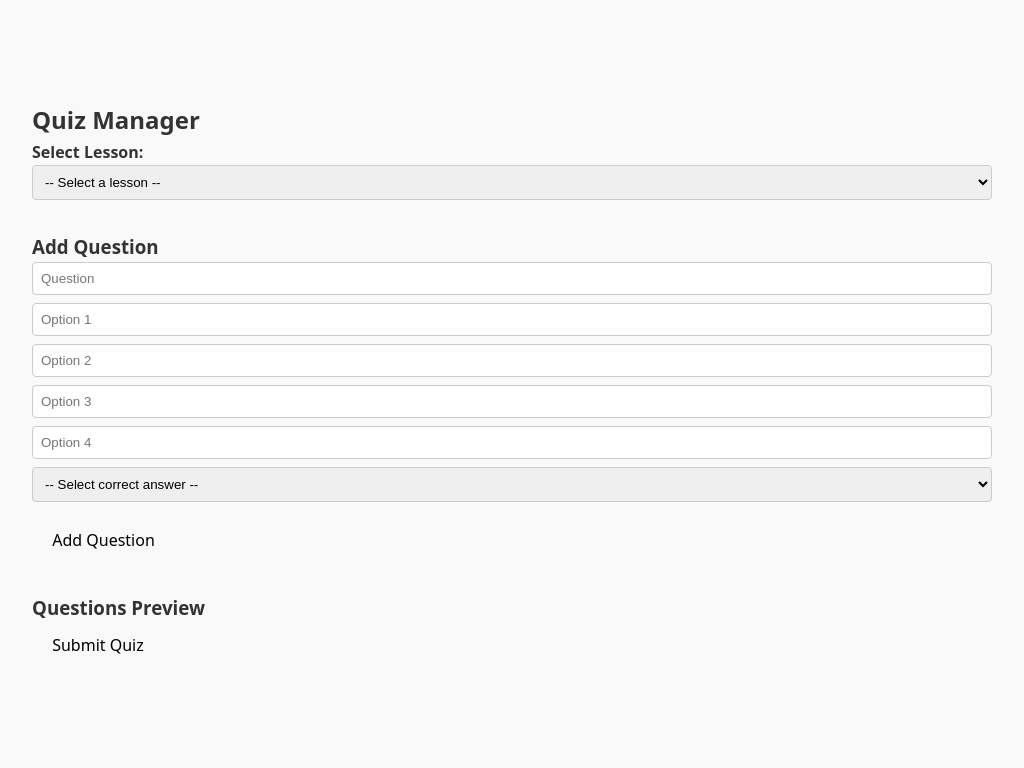
it: adds a question and displays preview
The image size is (1024, 768).
Select "Drone Basics" in the dropdown labelled "Select Lesson:". click: {"x": 512, "y": 183}
box: [32, 165, 992, 200]
Type "What is the safe altitude for drones?" into the field with placeholder "Question". click: {"x": 512, "y": 279}
box: [32, 262, 992, 295]
Type "100 ft" into the field with placeholder "Option 1". click: {"x": 512, "y": 320}
box: [32, 303, 992, 336]
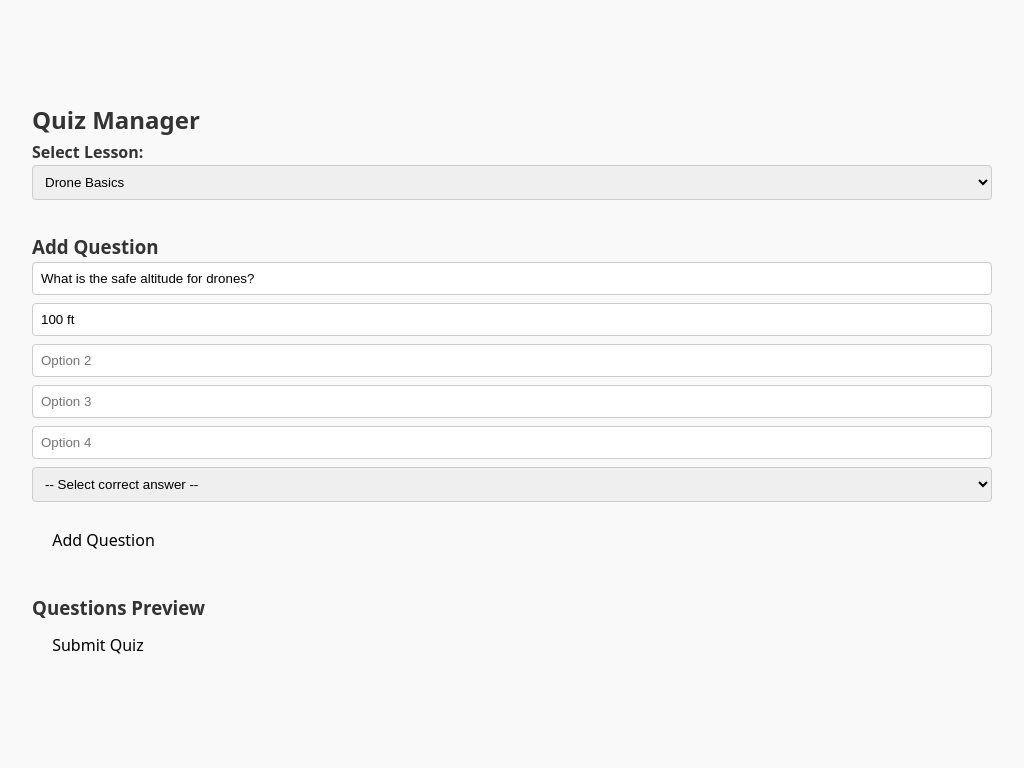
Type "200 ft" into the field with placeholder "Option 2". click: {"x": 512, "y": 361}
box: [32, 344, 992, 377]
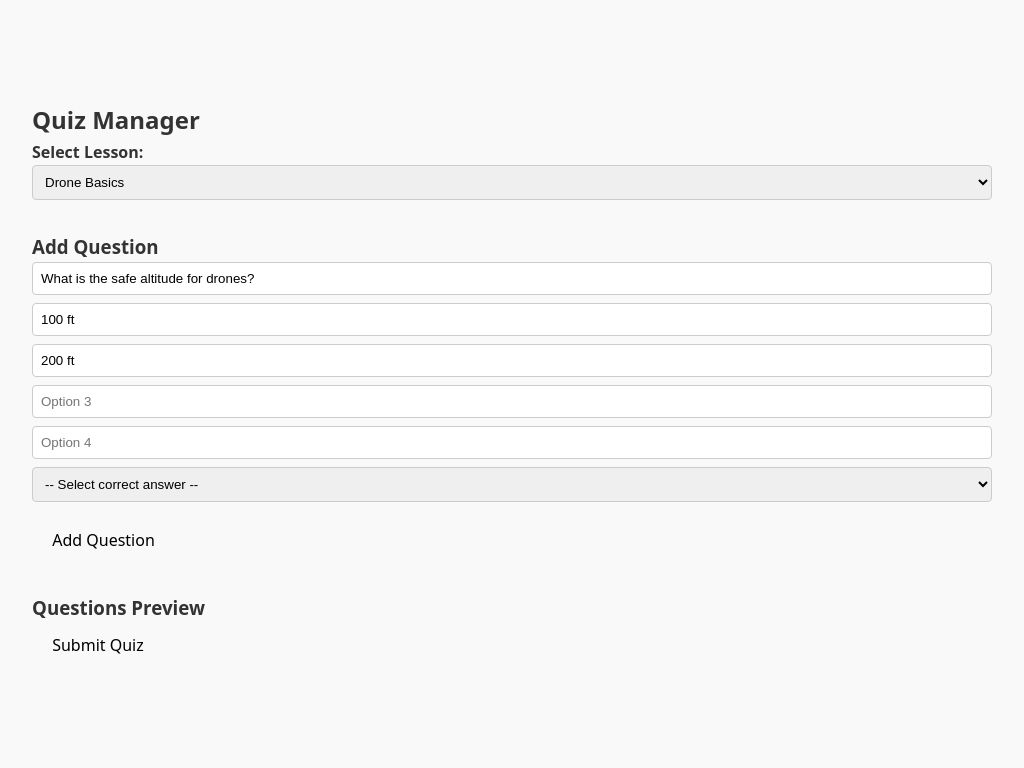
Type "300 ft" into the field with placeholder "Option 3". click: {"x": 512, "y": 402}
box: [32, 385, 992, 418]
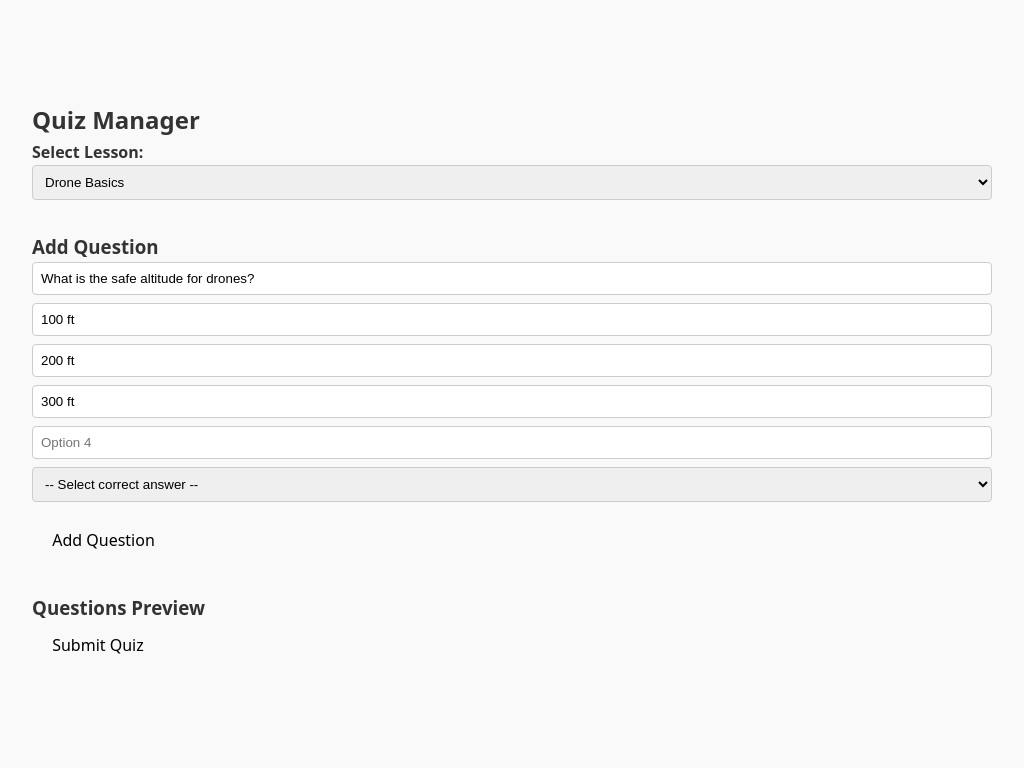
Type "400 ft" into the field with placeholder "Option 4". click: {"x": 512, "y": 443}
box: [32, 426, 992, 459]
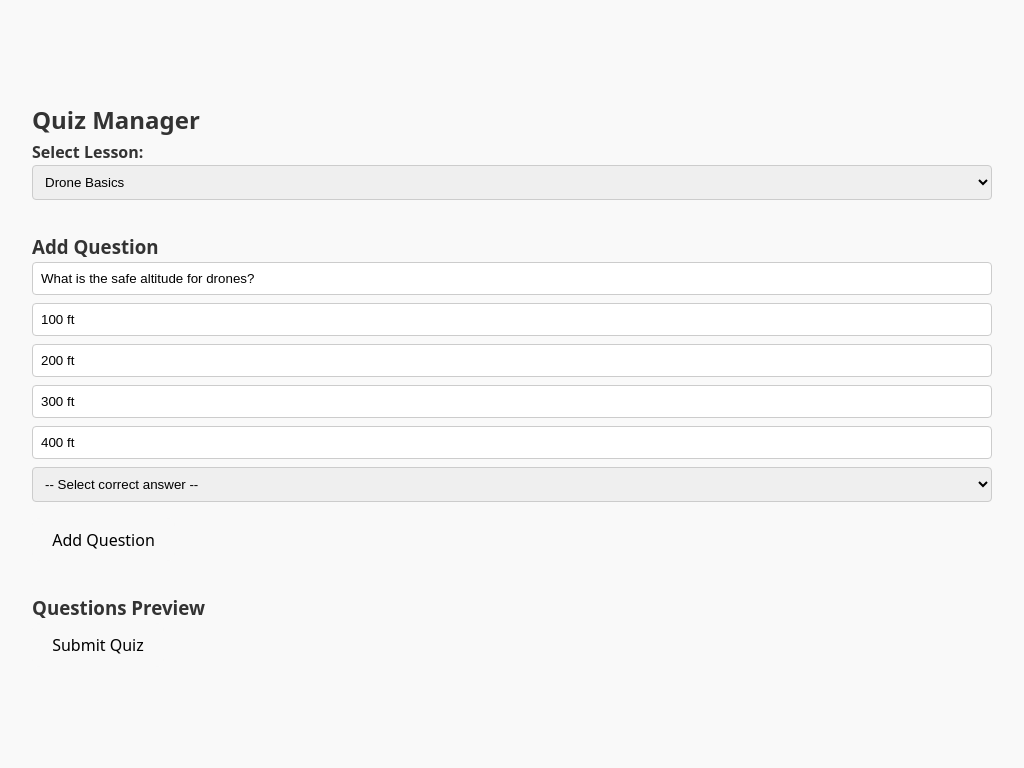
Select "400 ft" in the dropdown showing "-- Select correct answer --". click: {"x": 512, "y": 485}
box: [32, 467, 992, 502]
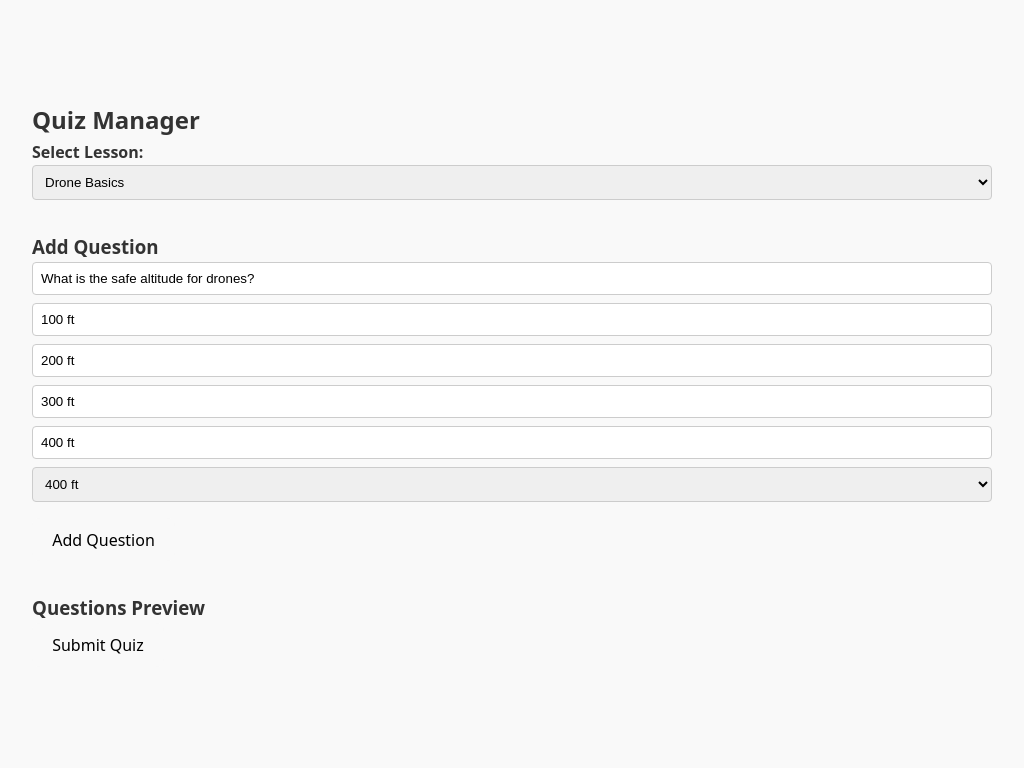
Click the button "Add Question". click: {"x": 104, "y": 540}
box: [32, 518, 175, 562]
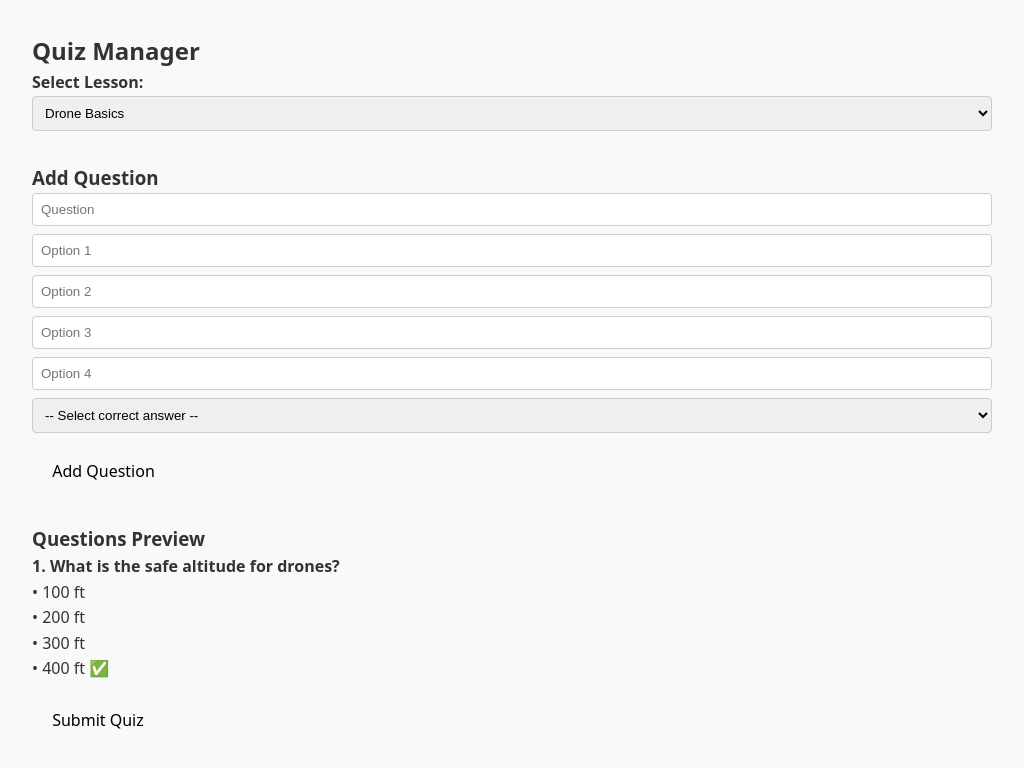
Expected: the heading "Questions Preview" is shown, [32, 526, 205, 551]
Now the text "1. What is the safe altitude for drones?" is shown, box [32, 555, 340, 577]
Now the text "• 400 ft ✅" is shown, box [32, 657, 109, 679]
